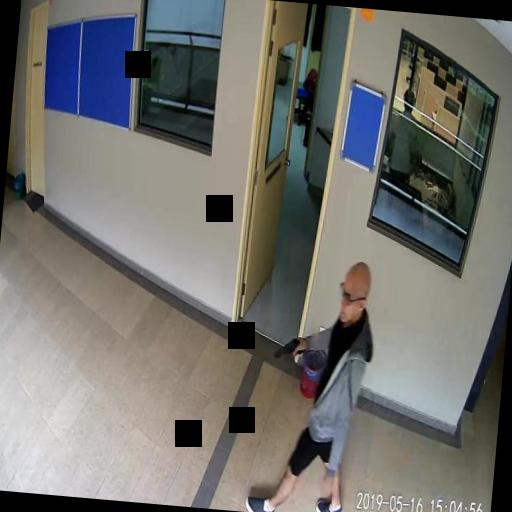Handgun: (274, 332, 304, 359)
